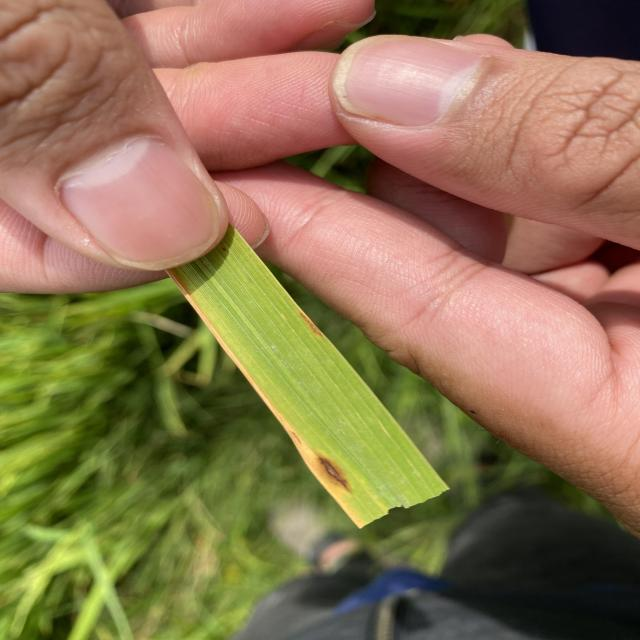Dom nau: (316, 456, 353, 493)
